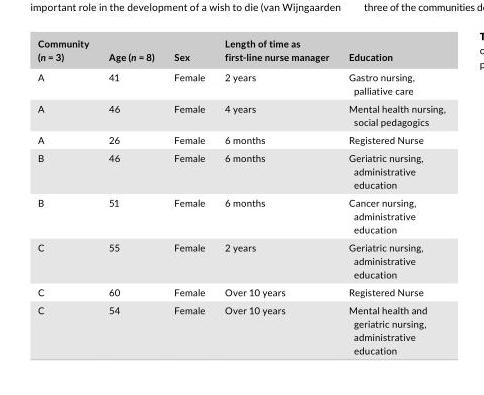table: (37, 37, 444, 355)
table column: (214, 37, 338, 355), (338, 37, 444, 355), (98, 37, 163, 355), (37, 37, 98, 355), (163, 37, 214, 355)
table column header: (37, 37, 444, 66)
table row: (37, 300, 444, 355), (37, 148, 444, 193), (37, 237, 444, 282), (37, 193, 444, 237), (37, 66, 444, 98), (37, 98, 444, 130), (37, 37, 444, 66), (37, 130, 444, 148), (37, 282, 444, 300)
